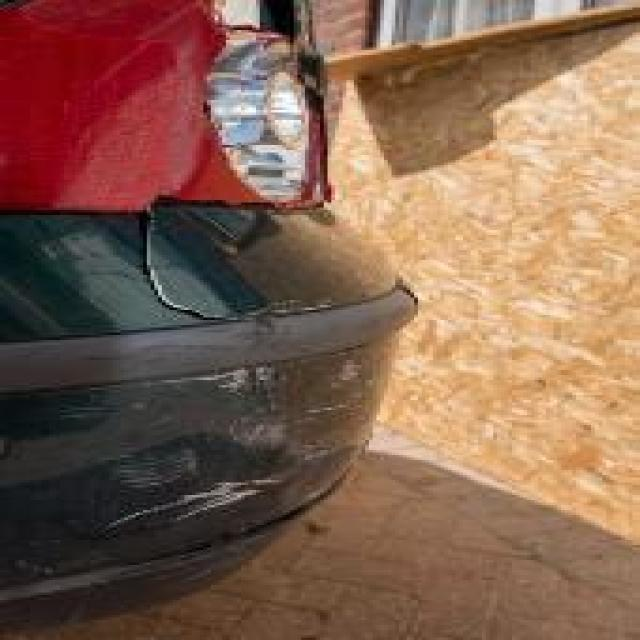Bumper: (19, 208, 501, 572)
Light: (4, 2, 346, 212)
